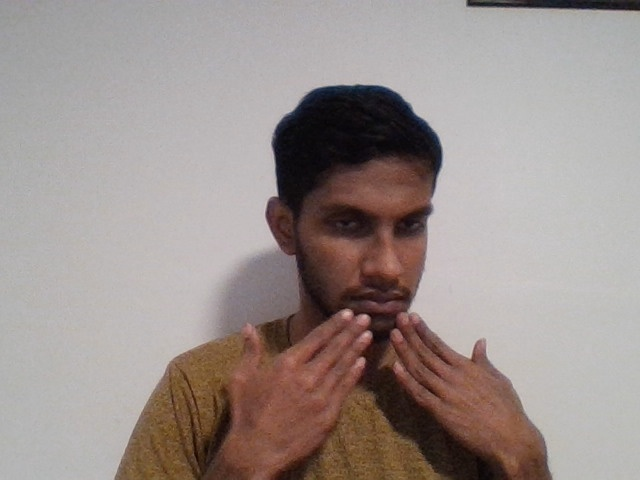thanks: (179, 303, 559, 459)
